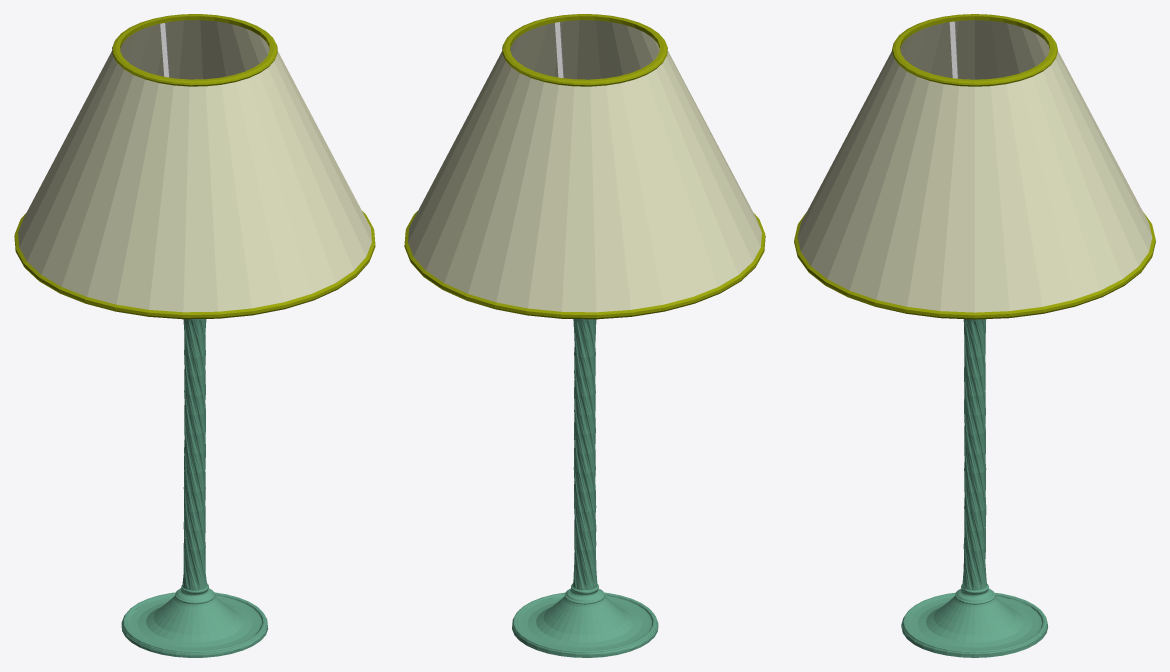
Rendered from sweethome3d-scopia-little-lamp-56.glb.
3 views of the same model, side by side, from view 1: azimuth 30°, elevation 25°; view 2: azimuth 150°, elevation 25°; view 3: azimuth 270°, elevation 25° (orthographic).
Visible parts, largest first — view 1: lamp2.001_Circle.005_yellow_multilamps.jpg, Circle_Circle.004_Material, lamp2.001_Circle.005_chrome_multilamps.jpg; view 2: lamp2.001_Circle.005_yellow_multilamps.jpg, Circle_Circle.004_Material, lamp2.001_Circle.005_chrome_multilamps.jpg; view 3: lamp2.001_Circle.005_yellow_multilamps.jpg, Circle_Circle.004_Material, lamp2.001_Circle.005_chrome_multilamps.jpg.
Boxes of the visible parts, box(x1,y1,x2,y2) form: lamp2.001_Circle.005_yellow_multilamps.jpg: box(18, 20, 371, 312); Circle_Circle.004_Material: box(121, 319, 268, 657); lamp2.001_Circle.005_chrome_multilamps.jpg: box(14, 14, 375, 319); lamp2.001_Circle.005_yellow_multilamps.jpg: box(408, 20, 761, 312); Circle_Circle.004_Material: box(512, 319, 658, 657); lamp2.001_Circle.005_chrome_multilamps.jpg: box(404, 14, 765, 319); lamp2.001_Circle.005_yellow_multilamps.jpg: box(797, 20, 1152, 312); Circle_Circle.004_Material: box(901, 319, 1047, 657); lamp2.001_Circle.005_chrome_multilamps.jpg: box(794, 14, 1155, 319).
Size of what is drawn, in the model's own units: 0.4106 by 0.7285 by 0.4106.
